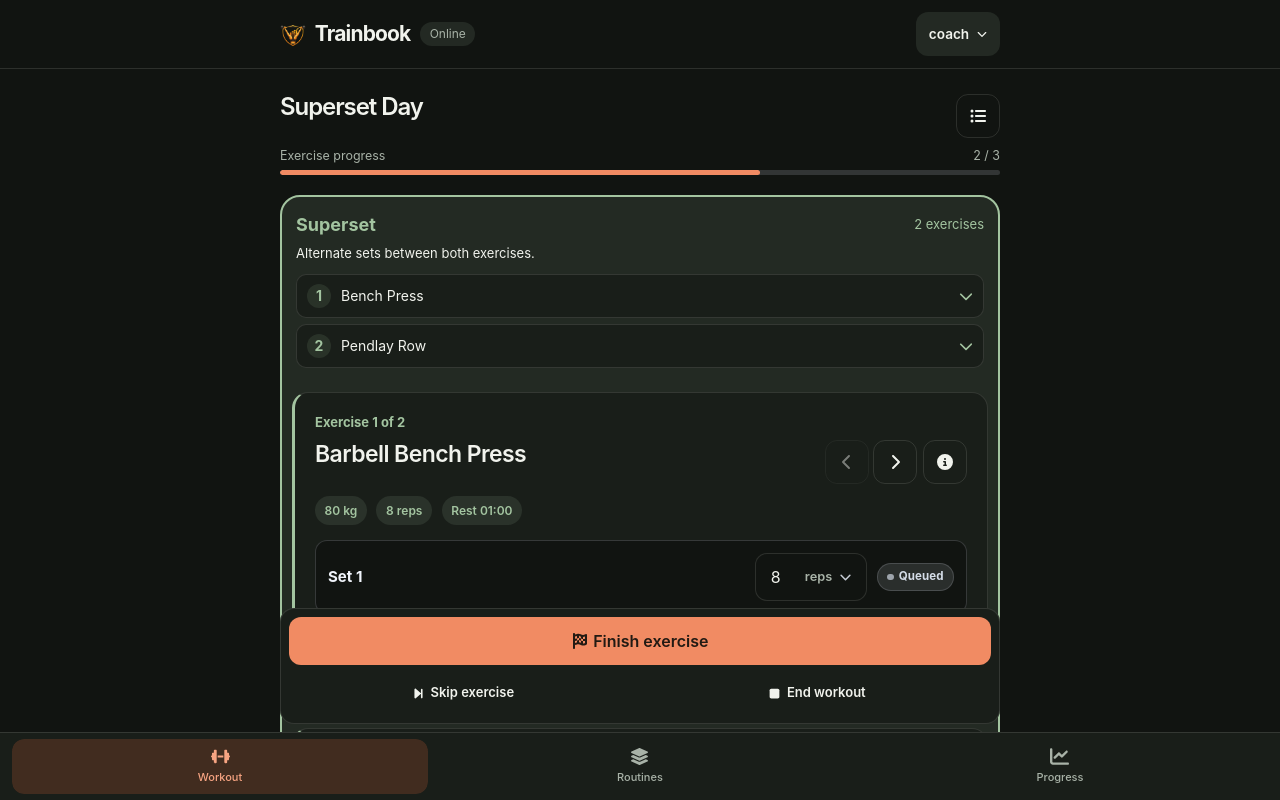
App UI flows › auto-finishes supersets when the final checked set is on the second superset card
Click the button with aria-label "Toggle set 1 for Bench Press". click: [916, 577]
box: [315,540,967,614]
(page scrolled)
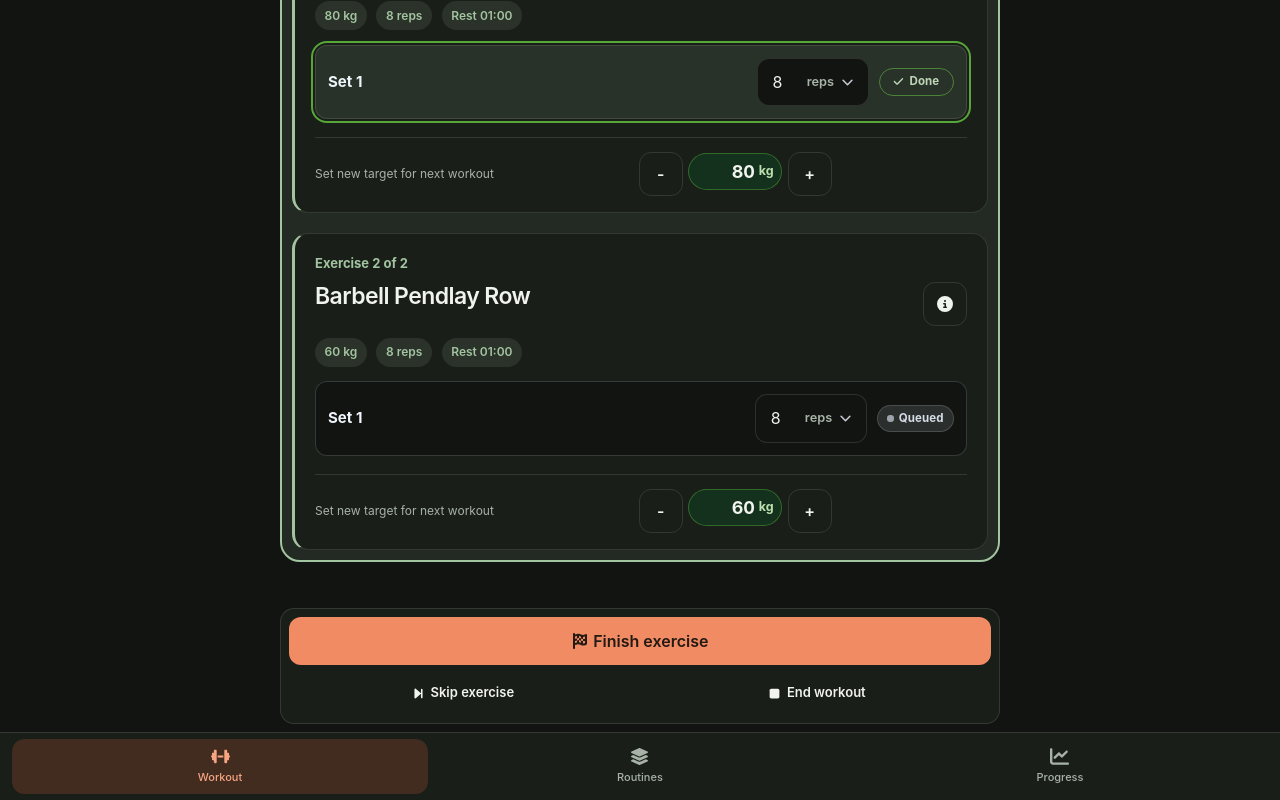
Click the button with aria-label "Toggle set 1 for Pendlay Row". click: [916, 418]
box: [315,381,967,456]
(page scrolled)
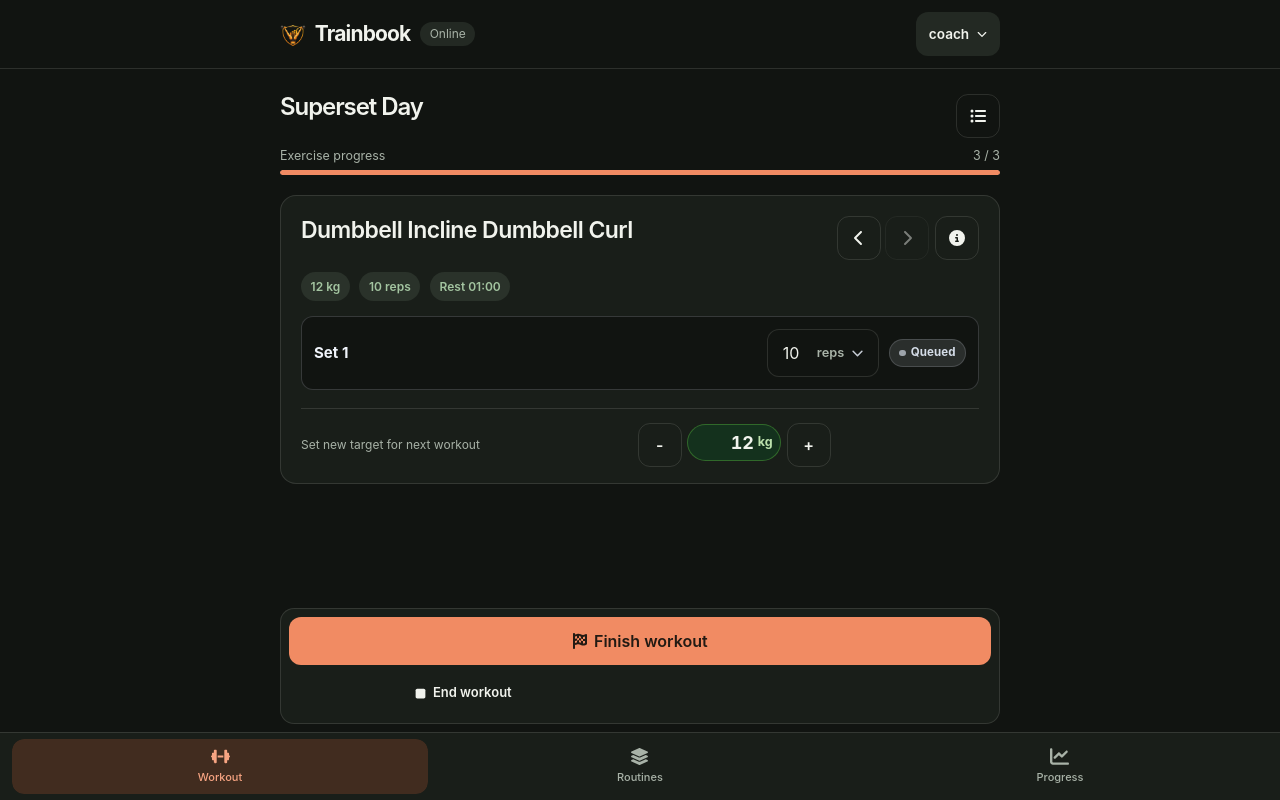
Check: the text "Dumbbell Incline Dumbbell Curl" is shown, box [301,216,633,245]
